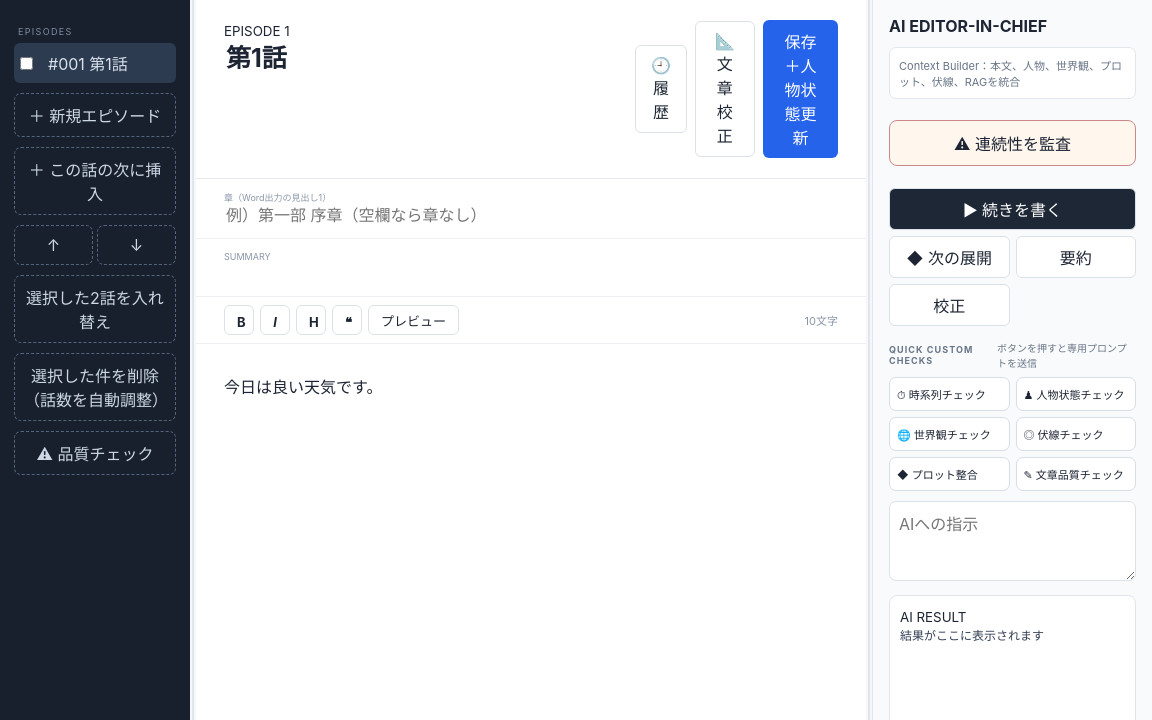
Test: WritePanel — episode management › opens the proofread panel and streams diffs from the episode's proofread/stream endpoint
Expected: the button "#001 第1話" is shown, [40,43,176,83]
Click the button "📐 文章校正".
click(725, 89)  # box [695,21,755,157]
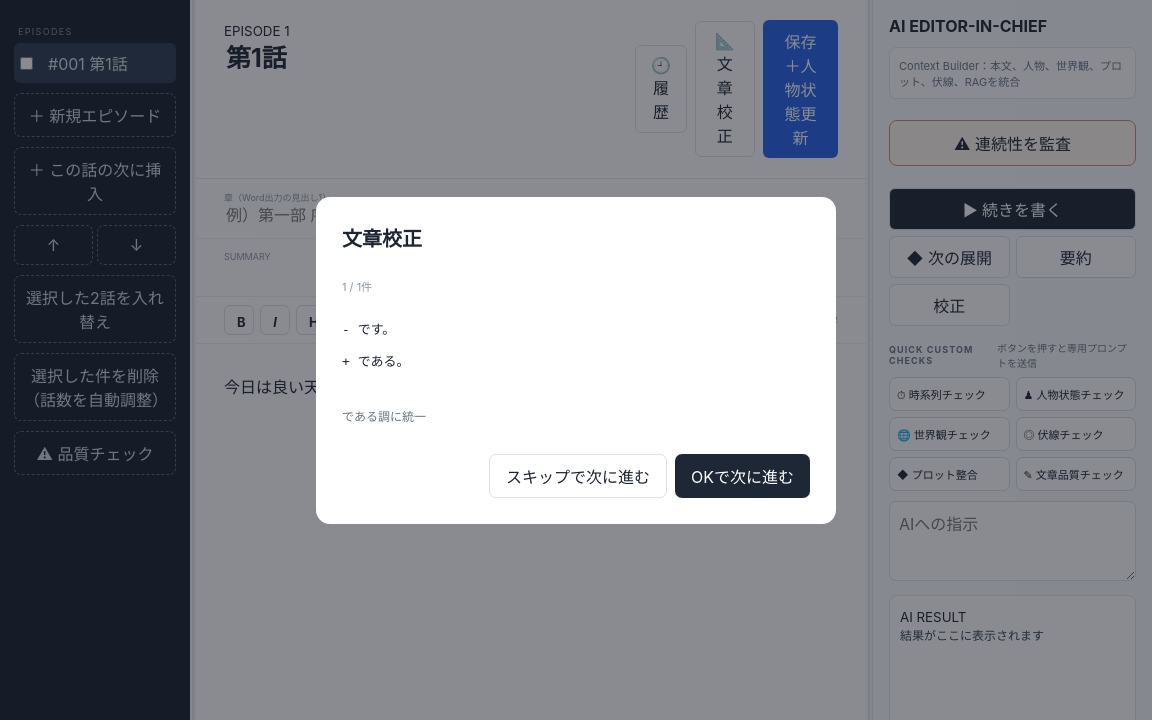
Expected: the heading "文章校正" is shown, [342,226,422,250]
Expected: the text "- です。" is shown, [342,322,395,336]
Expected: the text "+ である。" is shown, [342,354,410,368]
